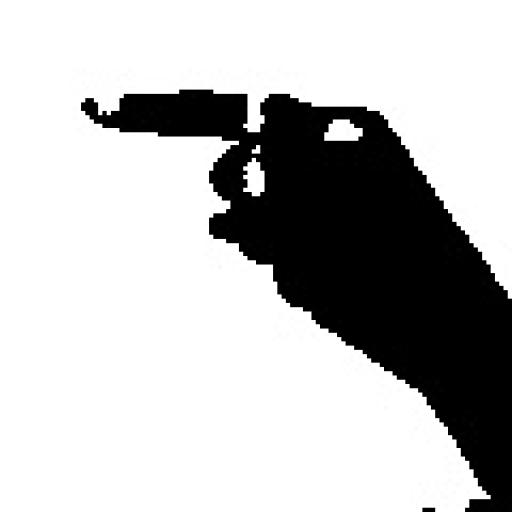index_right: (85, 85, 512, 320)
